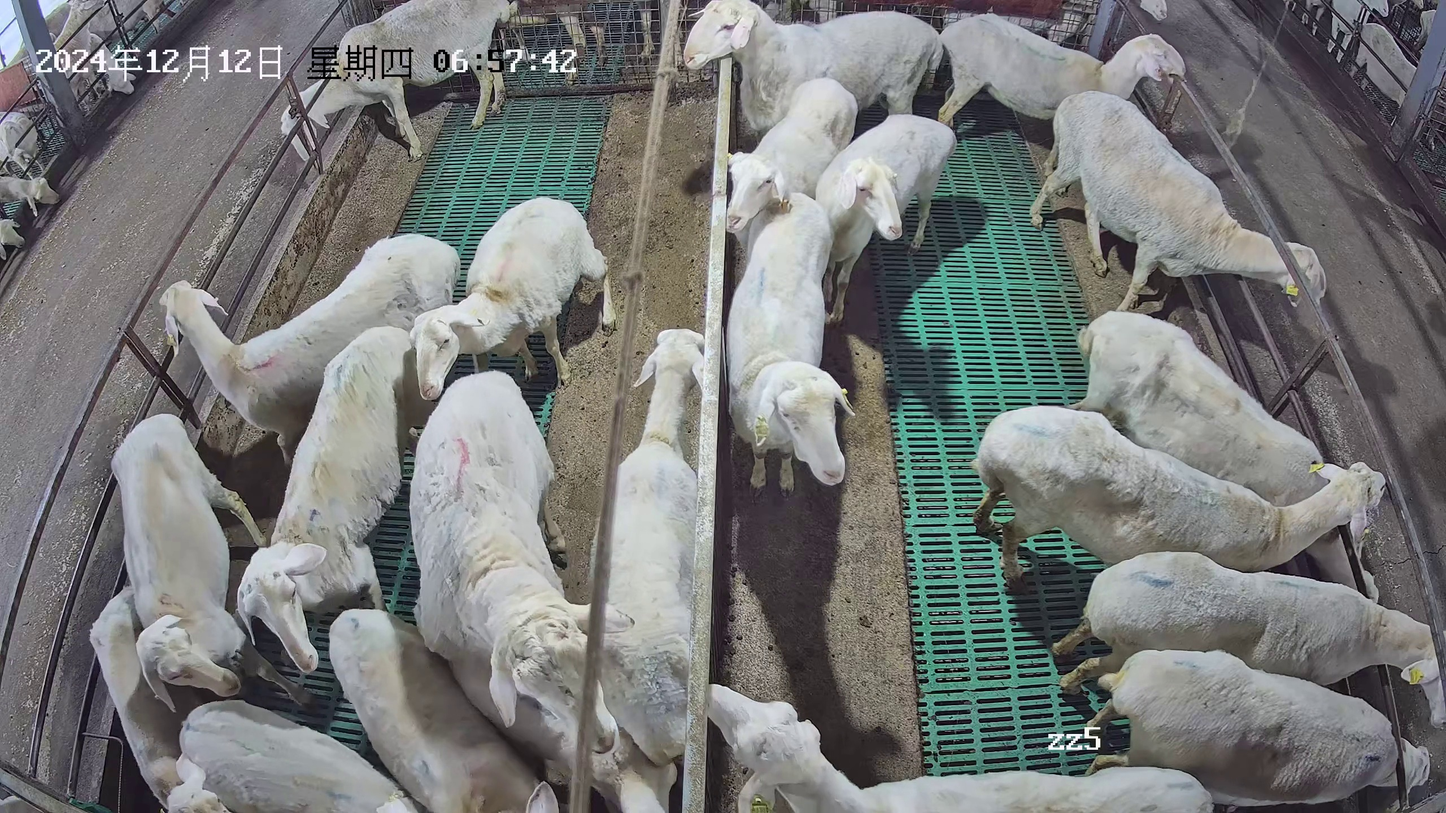Smounting: (408, 368, 681, 813)
mounted: (449, 656, 678, 813)
